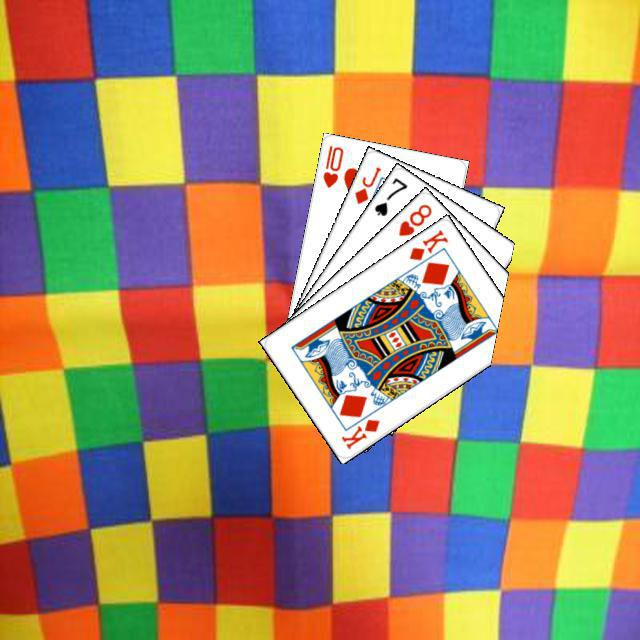10h: (318, 140, 345, 190)
7s: (369, 173, 409, 218)
8h: (394, 199, 434, 238)
Jd: (349, 162, 383, 206)
Kd: (404, 224, 450, 262), (336, 414, 381, 451)
